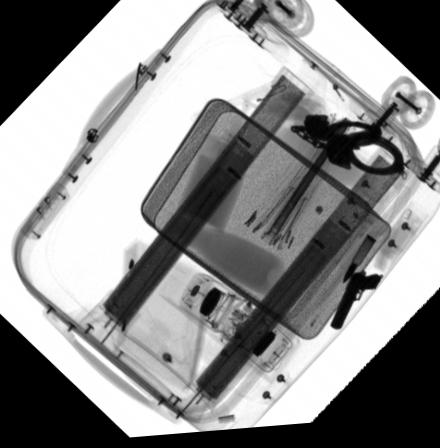Bullet: (341, 241, 377, 290)
Gun: (330, 273, 382, 334)
HandCuffs: (289, 119, 405, 182)
